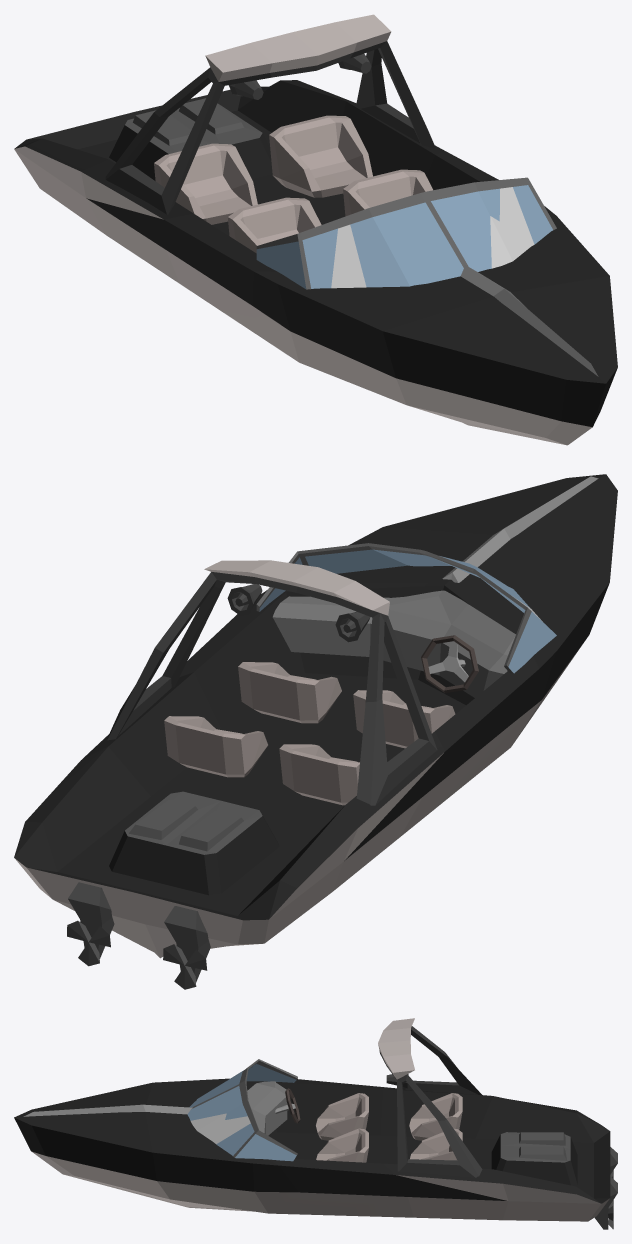
Rendered from Boat C.fbx.
The picture shows the model from 3 angles, top to bottom: view 1: azimuth 30°, elevation 25°; view 2: azimuth 150°, elevation 25°; view 3: azimuth 270°, elevation 25°; orthographic projection. The views are drawn at different scales.
Parts seen in each view (by area): view 1: Boat C; view 2: Boat C; view 3: Boat C.
Boxes of the visible parts, x1,y1,x2,y2 form: Boat C: (14,14,617,445); Boat C: (14,474,617,989); Boat C: (14,1018,617,1229).
Bounding box in the file's own units: 208 × 194 × 601.
